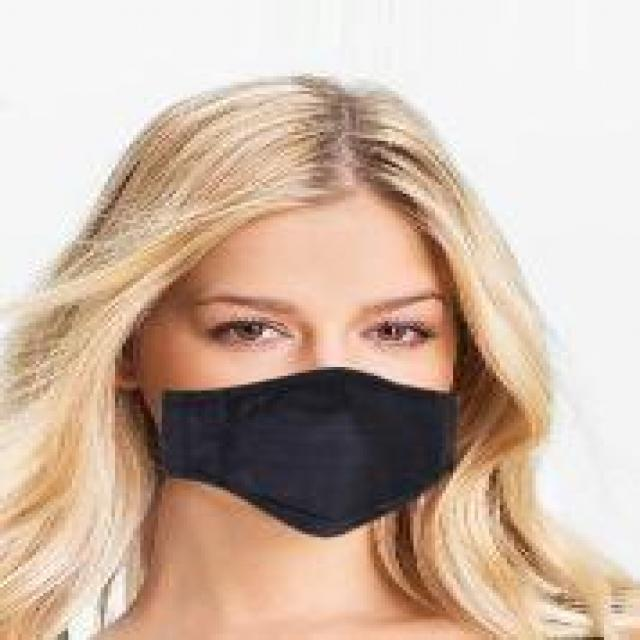mask: (133, 59, 579, 522)
